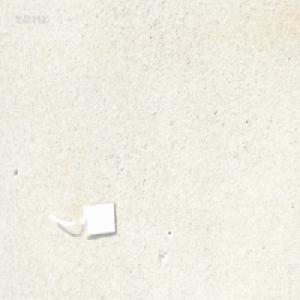LuggageTag: (51, 198, 120, 239)
